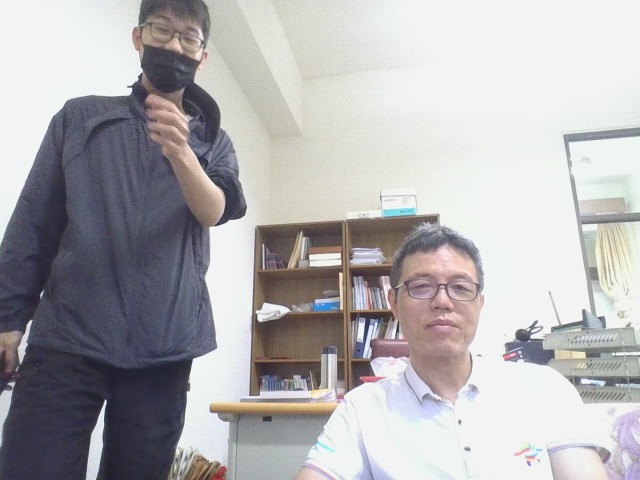No_Gloves: (140, 89, 195, 161), (0, 325, 26, 386)
No_Helmet: (383, 218, 489, 379), (126, 0, 215, 95)
person: (0, 0, 255, 479), (265, 205, 636, 480)
